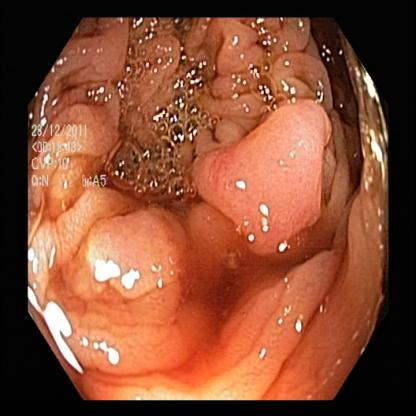Labels: (27, 112, 120, 210)
Polyps: (202, 102, 338, 243), (81, 222, 180, 361)
